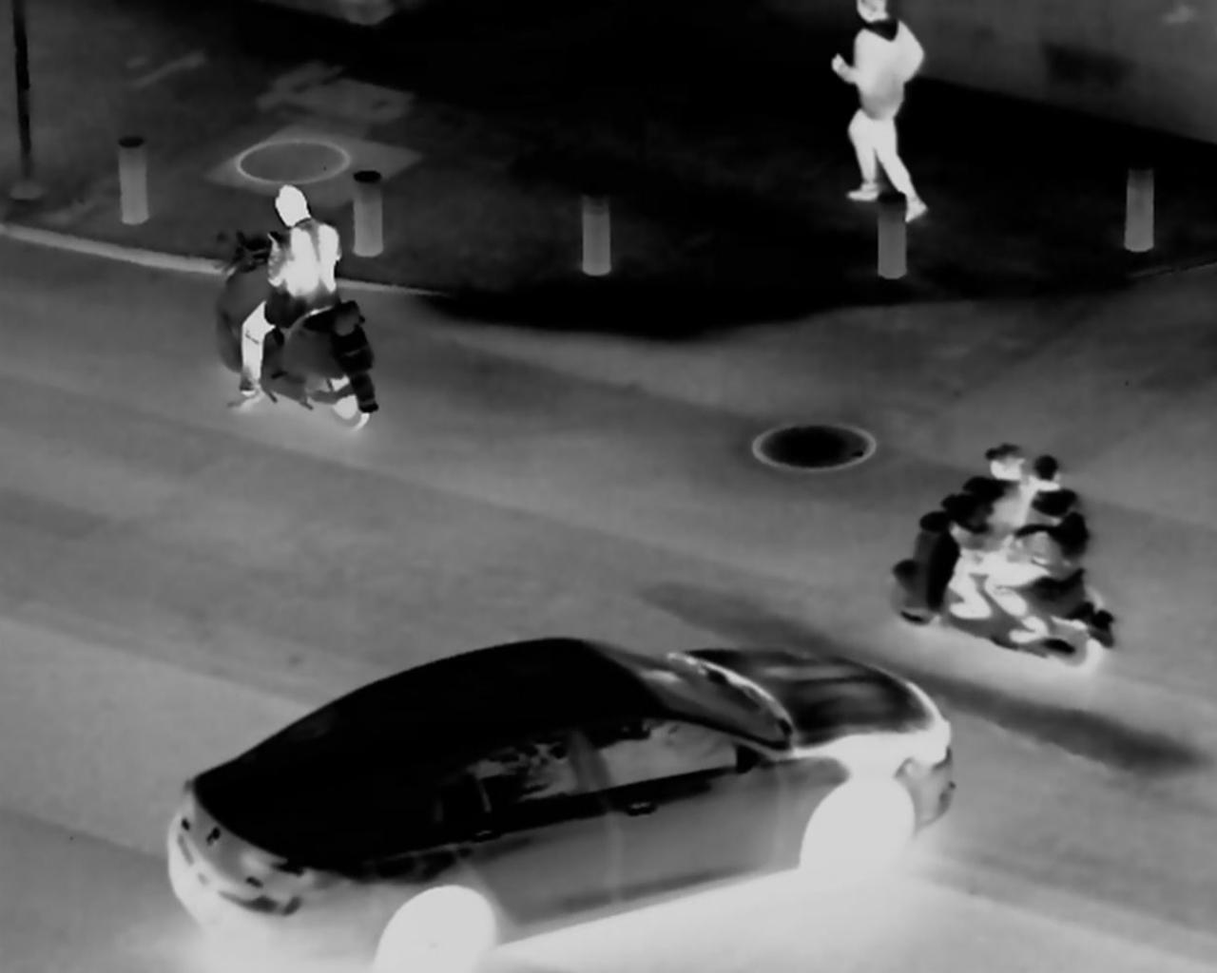person: (221, 180, 353, 405), (829, 4, 944, 226), (980, 441, 1089, 640), (933, 442, 1035, 635)
